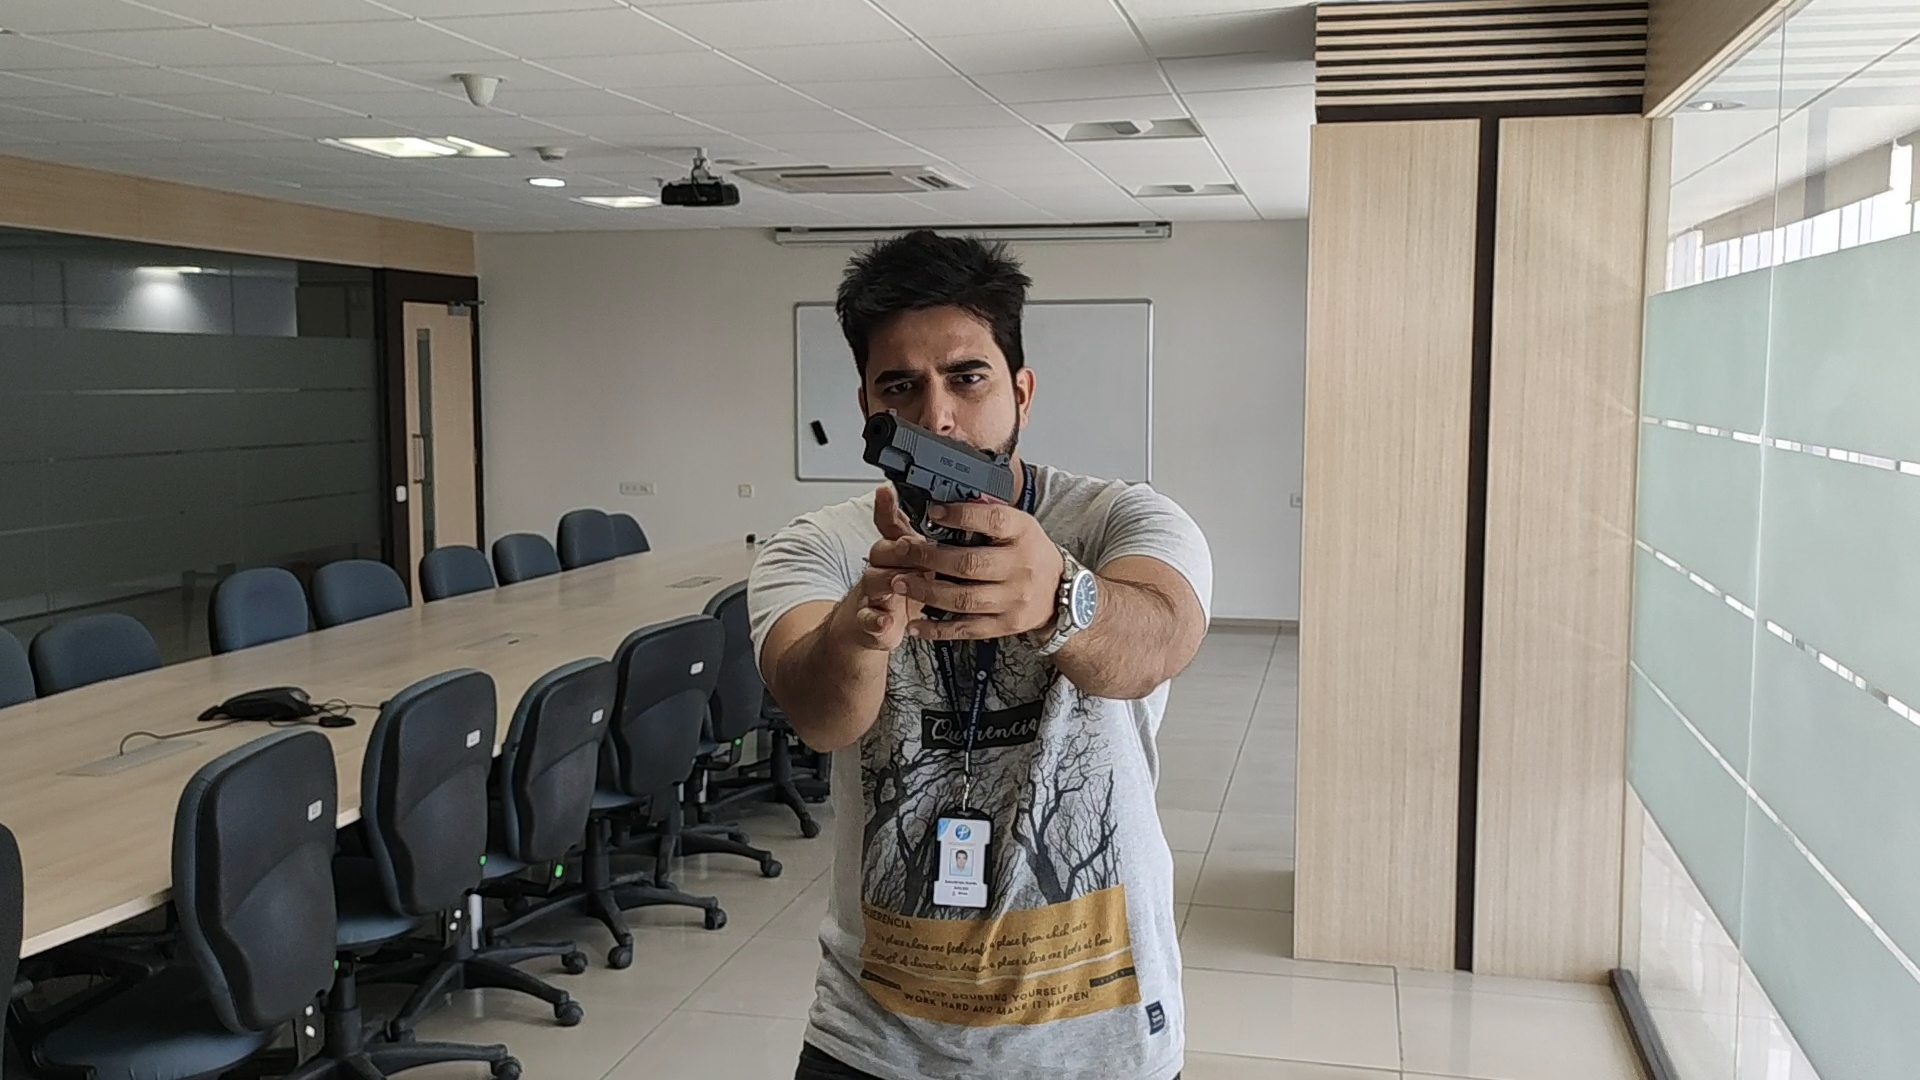gun: (861, 409, 1017, 504)
